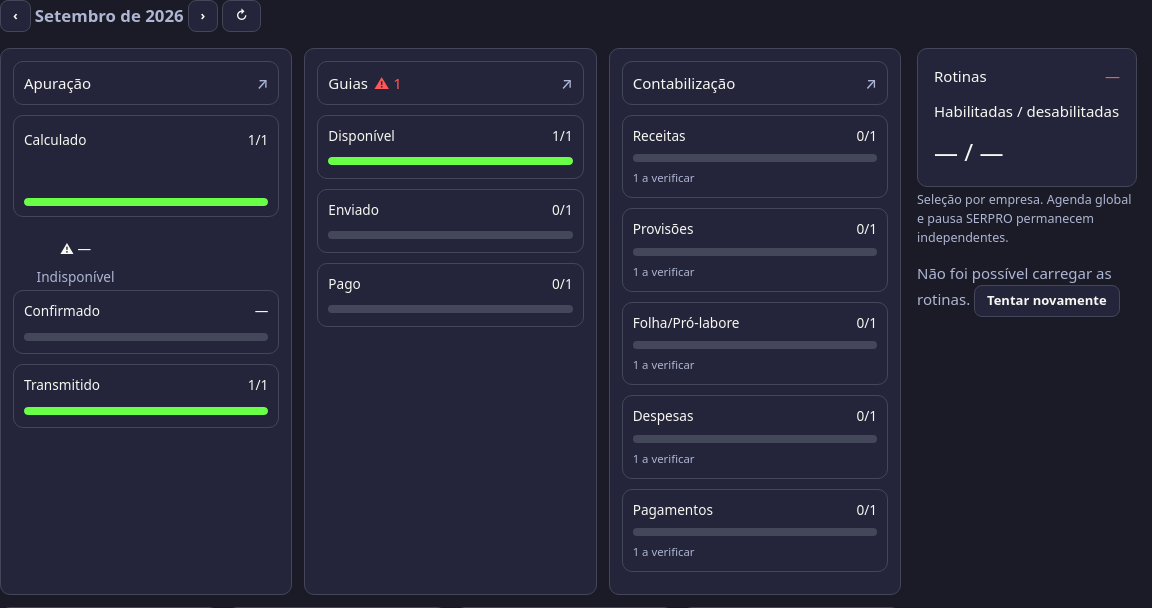
Test: recusa de reenvio é respeitada e troca de competência fecha detalhes antigos
Step 1. Click the button with aria-label "Erros de envio de guias" → (348,83), box [317,61,584,105]
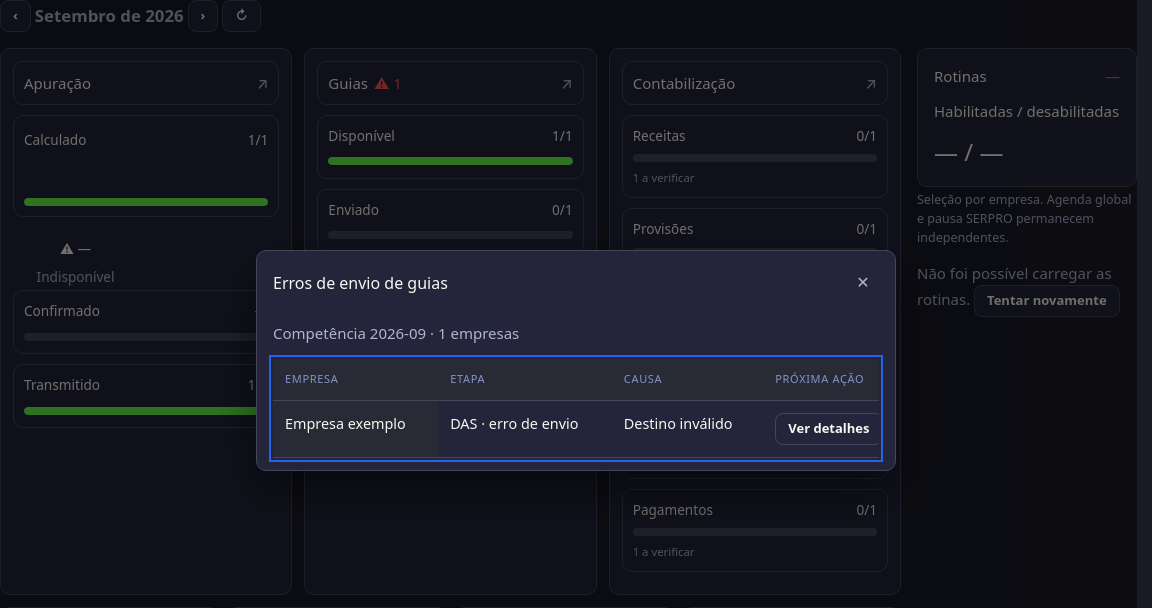
Step 2. Click the button "Ver detalhes" → (829,428), box [775,412,882,444]
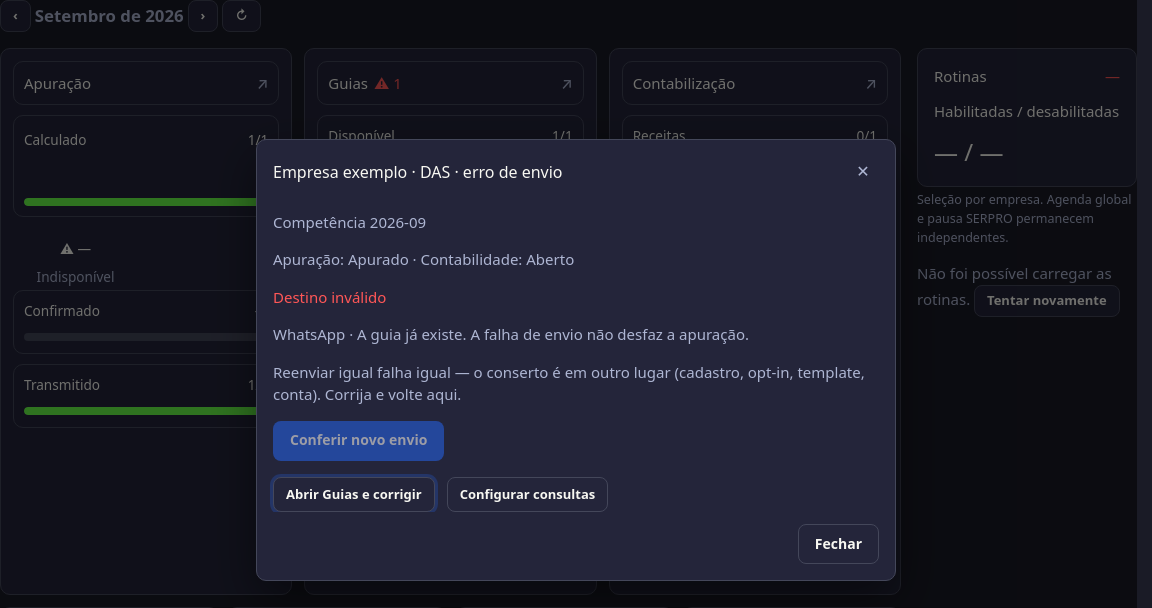
expect the button "Conferir novo envio" is disabled: met, box [273,421,444,461]
